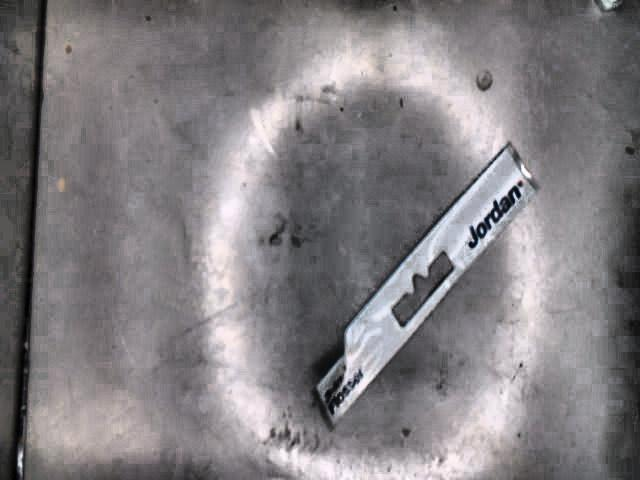Plastic: (314, 143, 540, 421)
